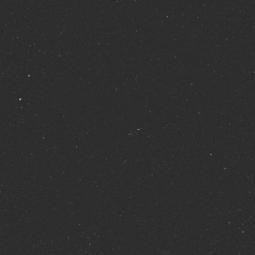proba_3_ocs: (122, 122, 181, 194)
